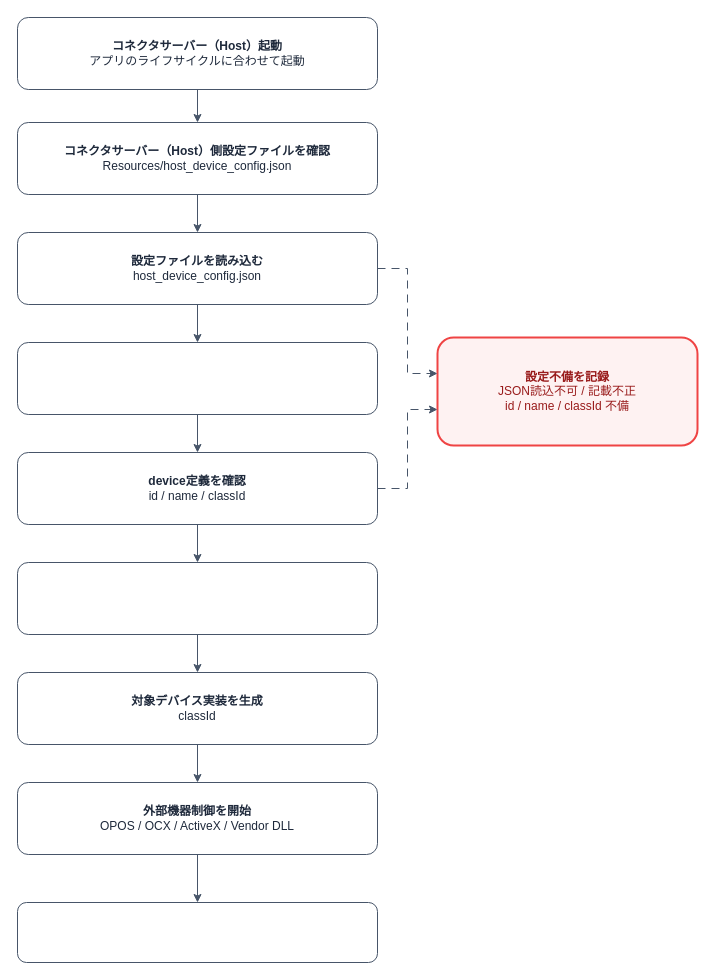
Some shapes in this 716 by 980 pixel diagram are drawn without their labels. Here are the shapes that lost their labels. From the top down, the centre of each, then its label:
At (197,378): "devices配列を確認 起動・保持する対象機器の一覧".
At (197,598): "有効な定義を起動対象にする 不備がある定義は起動対象外".
At (197,932): "コネクタサーバー（Host）側で利用可能".
